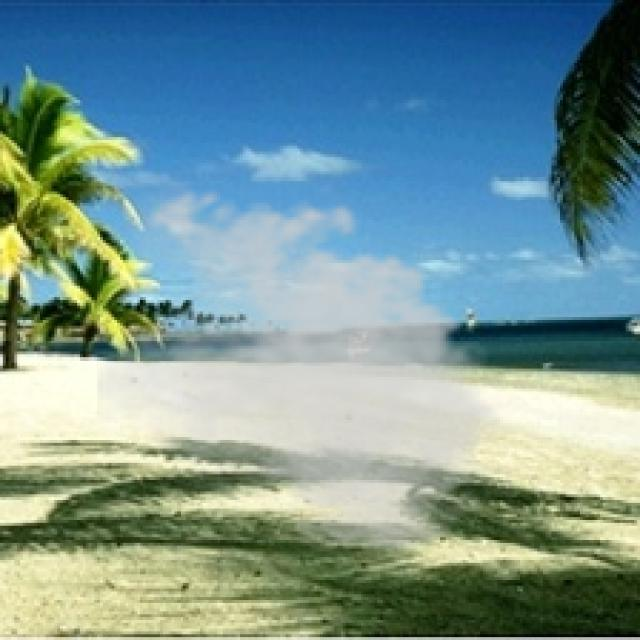Smoke: (97, 177, 517, 560)
